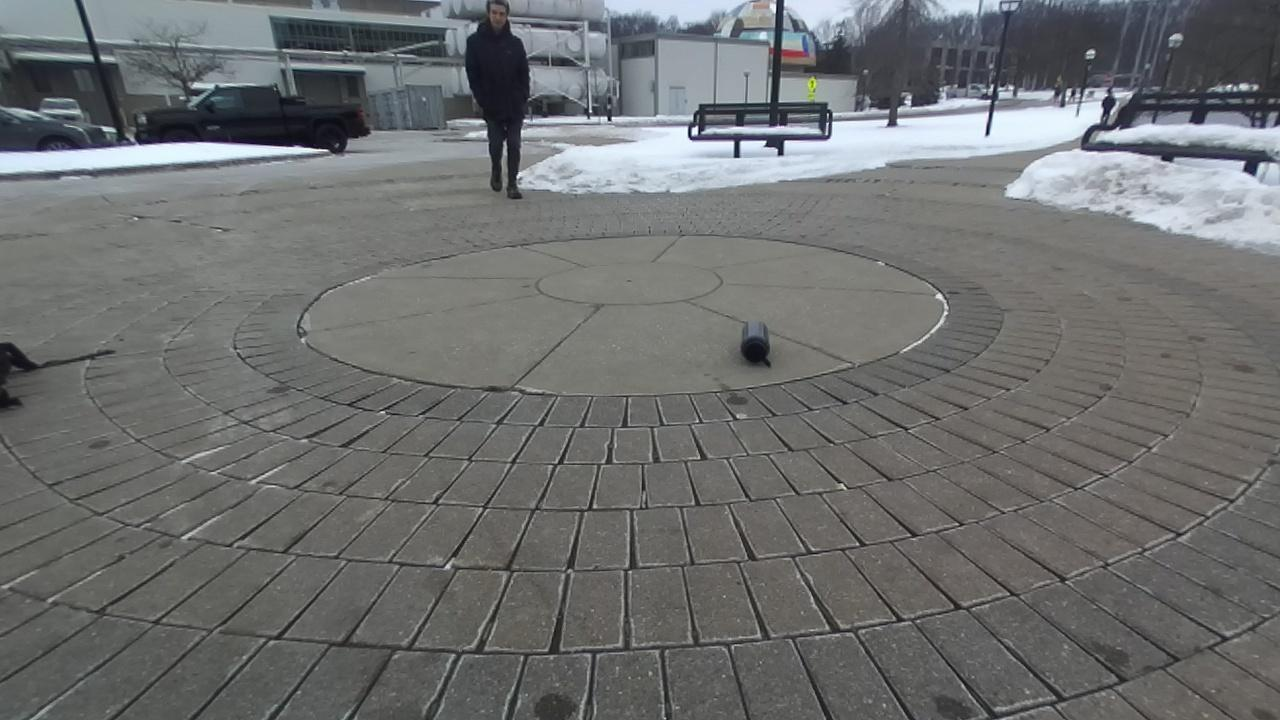bottle: (740, 322, 769, 365)
